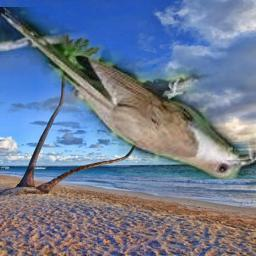Cuckoo: (0, 7, 256, 179)
